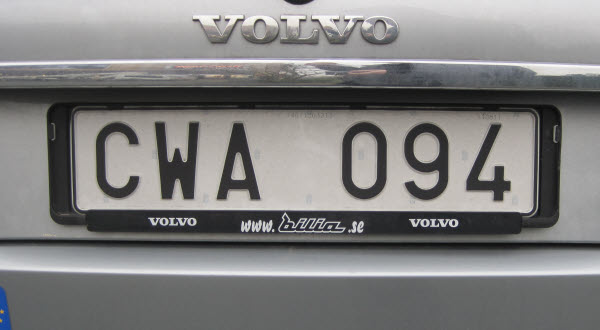license_plate: (70, 107, 539, 217)
